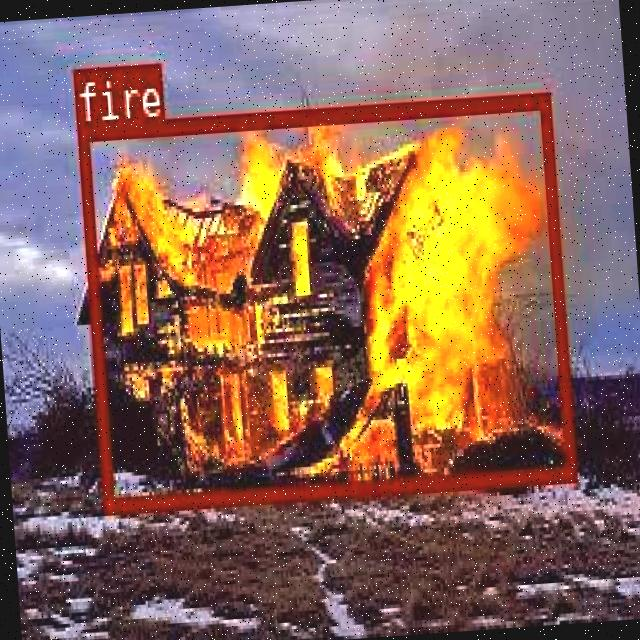fire: (75, 90, 572, 509)
